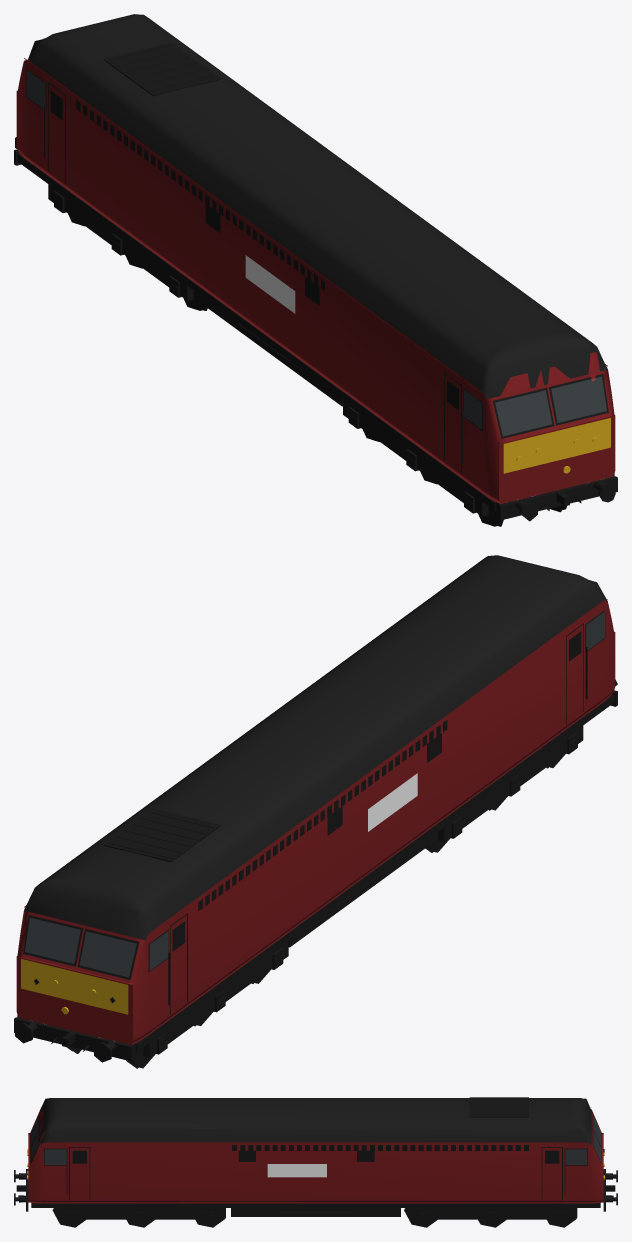
Rendered from diesel47_lod1.glb.
3 renders of one model, top to bottom at view 1: azimuth 30°, elevation 25°; view 2: azimuth 150°, elevation 25°; view 3: azimuth 270°, elevation 25°, orthographic. The views are drawn at different scales.
Parts seen in each view (by area): view 1: diesel47_static_roof_black, diesel47_static_coach_maroon, diesel47_static_underframe, diesel47_static_glass, diesel47_static_axle_yellow, diesel47_static_decal_wcr47; view 2: diesel47_static_roof_black, diesel47_static_coach_maroon, diesel47_static_underframe, diesel47_static_glass, diesel47_static_axle_yellow, diesel47_static_decal_wcr47; view 3: diesel47_static_coach_maroon, diesel47_static_roof_black, diesel47_static_underframe, diesel47_static_glass, diesel47_static_decal_wcr47.
Part boxes in pixels (x1,y1,x2,y2): diesel47_static_roof_black: [28, 14, 607, 399]; diesel47_static_coach_maroon: [16, 58, 615, 503]; diesel47_static_underframe: [14, 42, 617, 526]; diesel47_static_glass: [27, 71, 606, 435]; diesel47_static_axle_yellow: [503, 418, 610, 473]; diesel47_static_decal_wcr47: [245, 255, 295, 313]; diesel47_static_roof_black: [24, 555, 607, 940]; diesel47_static_coach_maroon: [16, 599, 615, 1044]; diesel47_static_underframe: [14, 610, 617, 1068]; diesel47_static_glass: [25, 612, 604, 976]; diesel47_static_axle_yellow: [21, 959, 128, 1014]; diesel47_static_decal_wcr47: [368, 773, 417, 831]; diesel47_static_coach_maroon: [28, 1107, 603, 1203]; diesel47_static_roof_black: [40, 1098, 591, 1144]; diesel47_static_underframe: [14, 1097, 617, 1227]; diesel47_static_glass: [31, 1116, 600, 1164]; diesel47_static_decal_wcr47: [267, 1164, 326, 1177].
Bounding box in the file's own units: 2.77 × 3.94 × 19.38.
